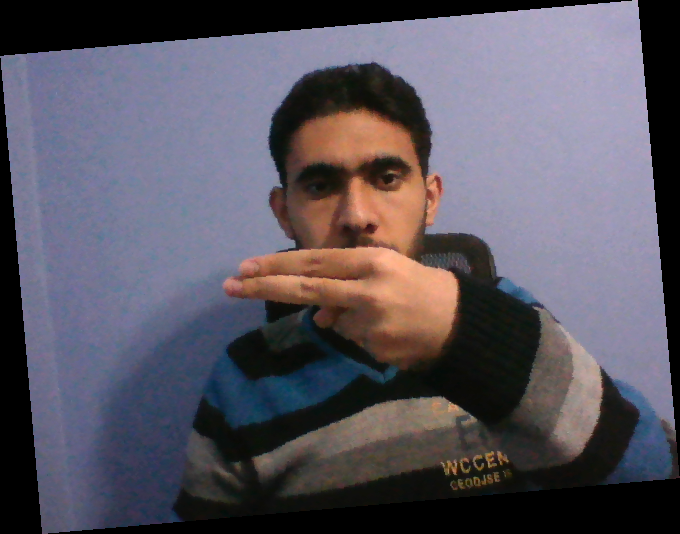H: (208, 239, 473, 375)
